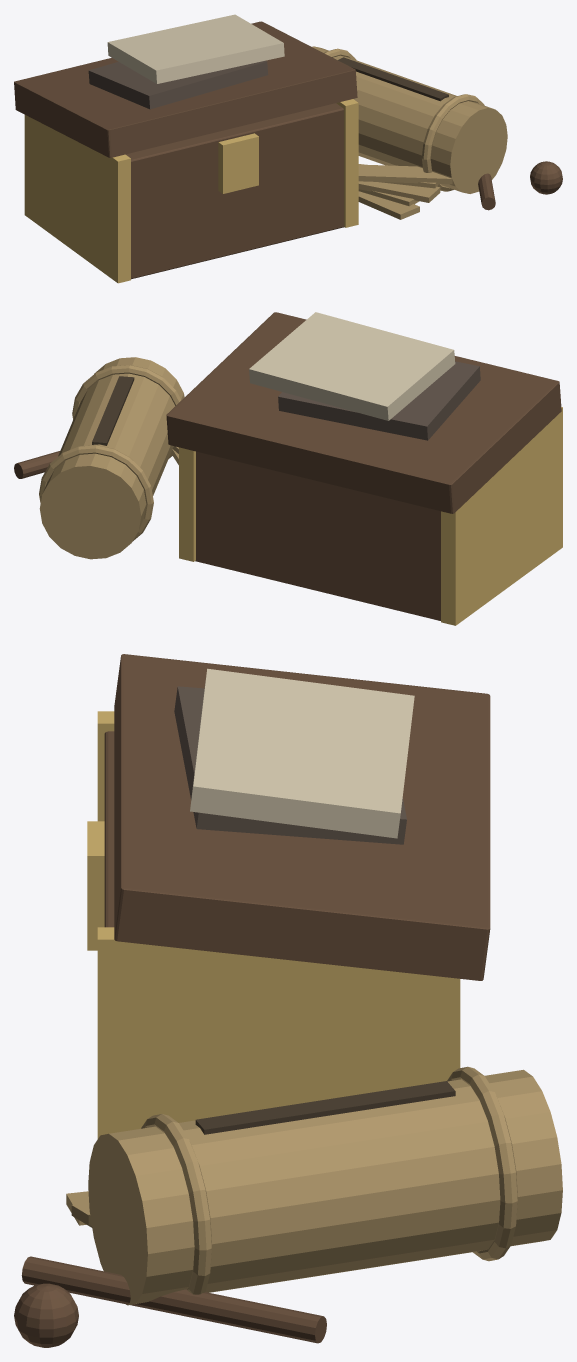
Rendered from tax_artifacts.glb.
3 renders of one model, top to bottom at view 1: azimuth 30°, elevation 25°; view 2: azimuth 150°, elevation 25°; view 3: azimuth 270°, elevation 25°, orthographic. The views are drawn at different scales.
Parts seen in each view (by area): view 1: Cube, Cube.001, Cube.002, Cylinder, Cube.006, Cube.005, Cube.004, Cube.003, Cube.011, Cube.012, Torus, Cube.009 (+4 smaller); view 2: Cube.001, Cube, Cylinder, Cube.002, Cube.006, Cube.005, Cube.003, Torus.001, Torus, Cube.012, Cylinder.001; view 3: Cube.001, Cylinder, Cube.003, Cube.006, Cylinder.001, Cube.005, Cube.012, Torus.001, Torus, Sphere, Cube.004, Cube (+1 smaller).
Part boxes in pixels (x1,y1,x2,y2): Cube: (125, 103, 344, 279); Cube.001: (14, 21, 357, 157); Cube.002: (24, 115, 130, 283); Cylinder: (312, 46, 507, 193); Cube.006: (107, 14, 284, 83); Cube.005: (88, 61, 268, 109); Cube.004: (218, 133, 258, 193); Cube.003: (336, 99, 358, 227); Cube.011: (358, 164, 452, 184); Cube.012: (338, 57, 448, 101); Torus: (422, 94, 484, 191); Cube.009: (358, 181, 440, 202); Cube.001: (166, 312, 561, 513); Cube: (195, 451, 440, 620); Cylinder: (39, 357, 184, 559); Cube.002: (441, 407, 562, 625); Cube.006: (249, 312, 455, 420); Cube.005: (278, 361, 480, 440); Cube.003: (179, 447, 195, 561); Torus.001: (39, 445, 153, 541); Torus: (72, 365, 181, 458); Cube.012: (92, 376, 134, 445); Cylinder.001: (14, 451, 59, 478); Cube.001: (114, 654, 490, 980); Cylinder: (88, 1069, 562, 1305); Cube.003: (97, 927, 460, 1138); Cube.006: (190, 668, 414, 838); Cylinder.001: (21, 1256, 326, 1343); Cube.005: (174, 686, 406, 844); Cube.012: (195, 1081, 455, 1134); Torus.001: (447, 1066, 517, 1261); Torus: (141, 1114, 211, 1294); Sphere: (14, 1283, 78, 1347); Cube.004: (87, 821, 104, 950); Cube: (104, 731, 114, 927).
Bounding box in the file's own units: 0.8373 × 0.3377 × 0.4722.
